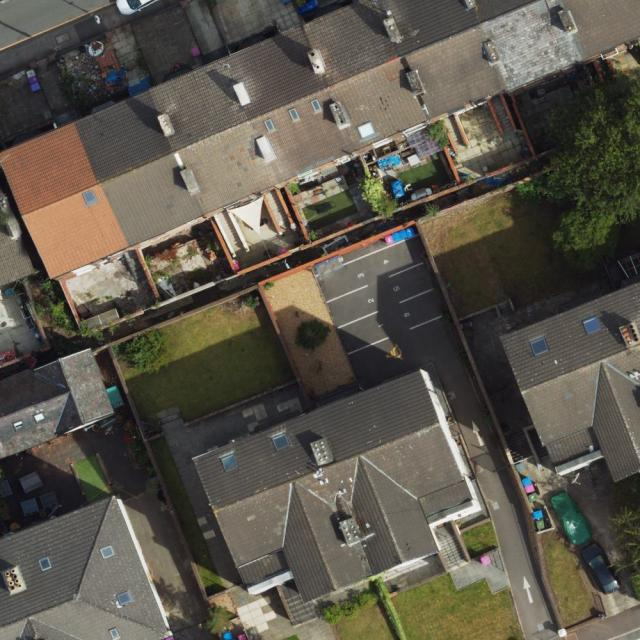roof: (0, 0, 640, 277), (195, 369, 477, 604), (497, 281, 639, 485), (0, 498, 169, 640), (0, 345, 114, 460)
skylight: (268, 427, 295, 455), (216, 450, 241, 475), (355, 120, 379, 141), (115, 587, 136, 608), (81, 185, 100, 207), (36, 553, 54, 573), (286, 105, 303, 125), (98, 543, 116, 561), (308, 96, 324, 115), (261, 117, 277, 133), (11, 418, 27, 433), (32, 409, 48, 424), (108, 626, 123, 640)
